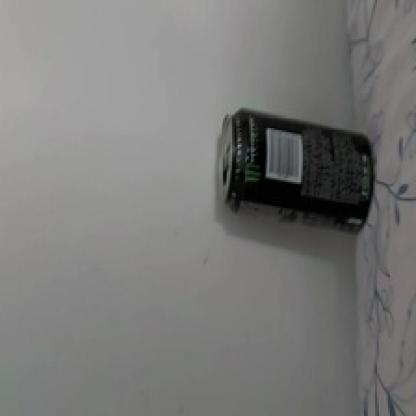Can: (215, 108, 375, 232)
